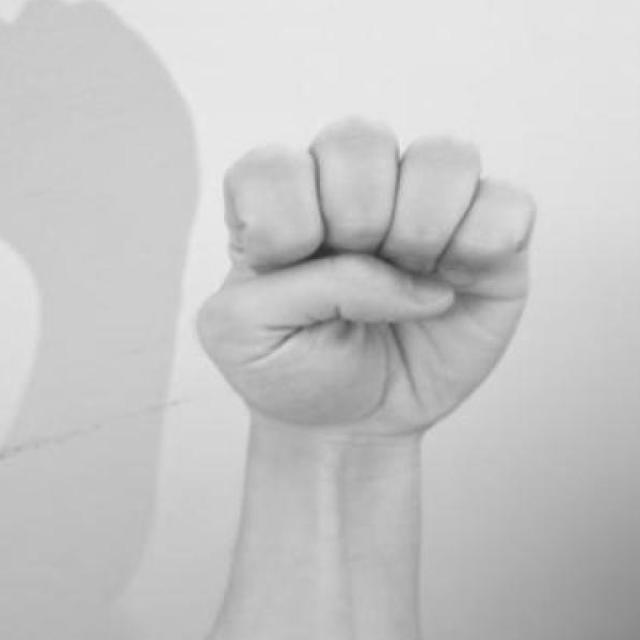E: (178, 108, 552, 478)
